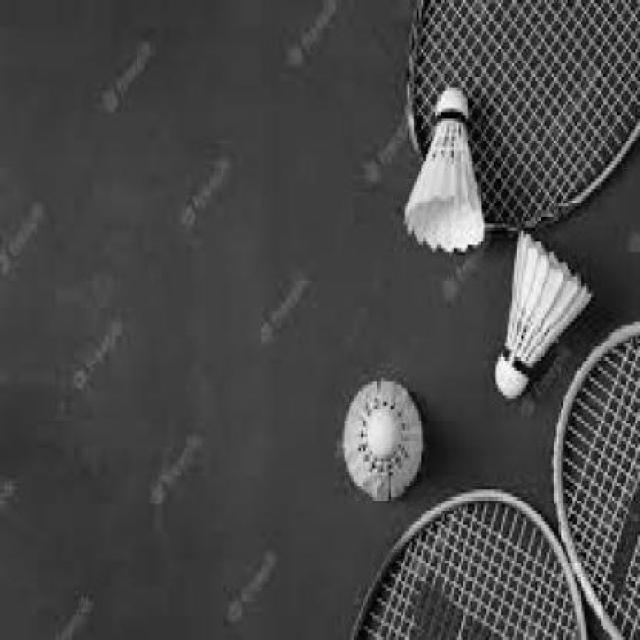Shuttlecock: (495, 231, 592, 397), (403, 84, 484, 252), (341, 379, 420, 496)
